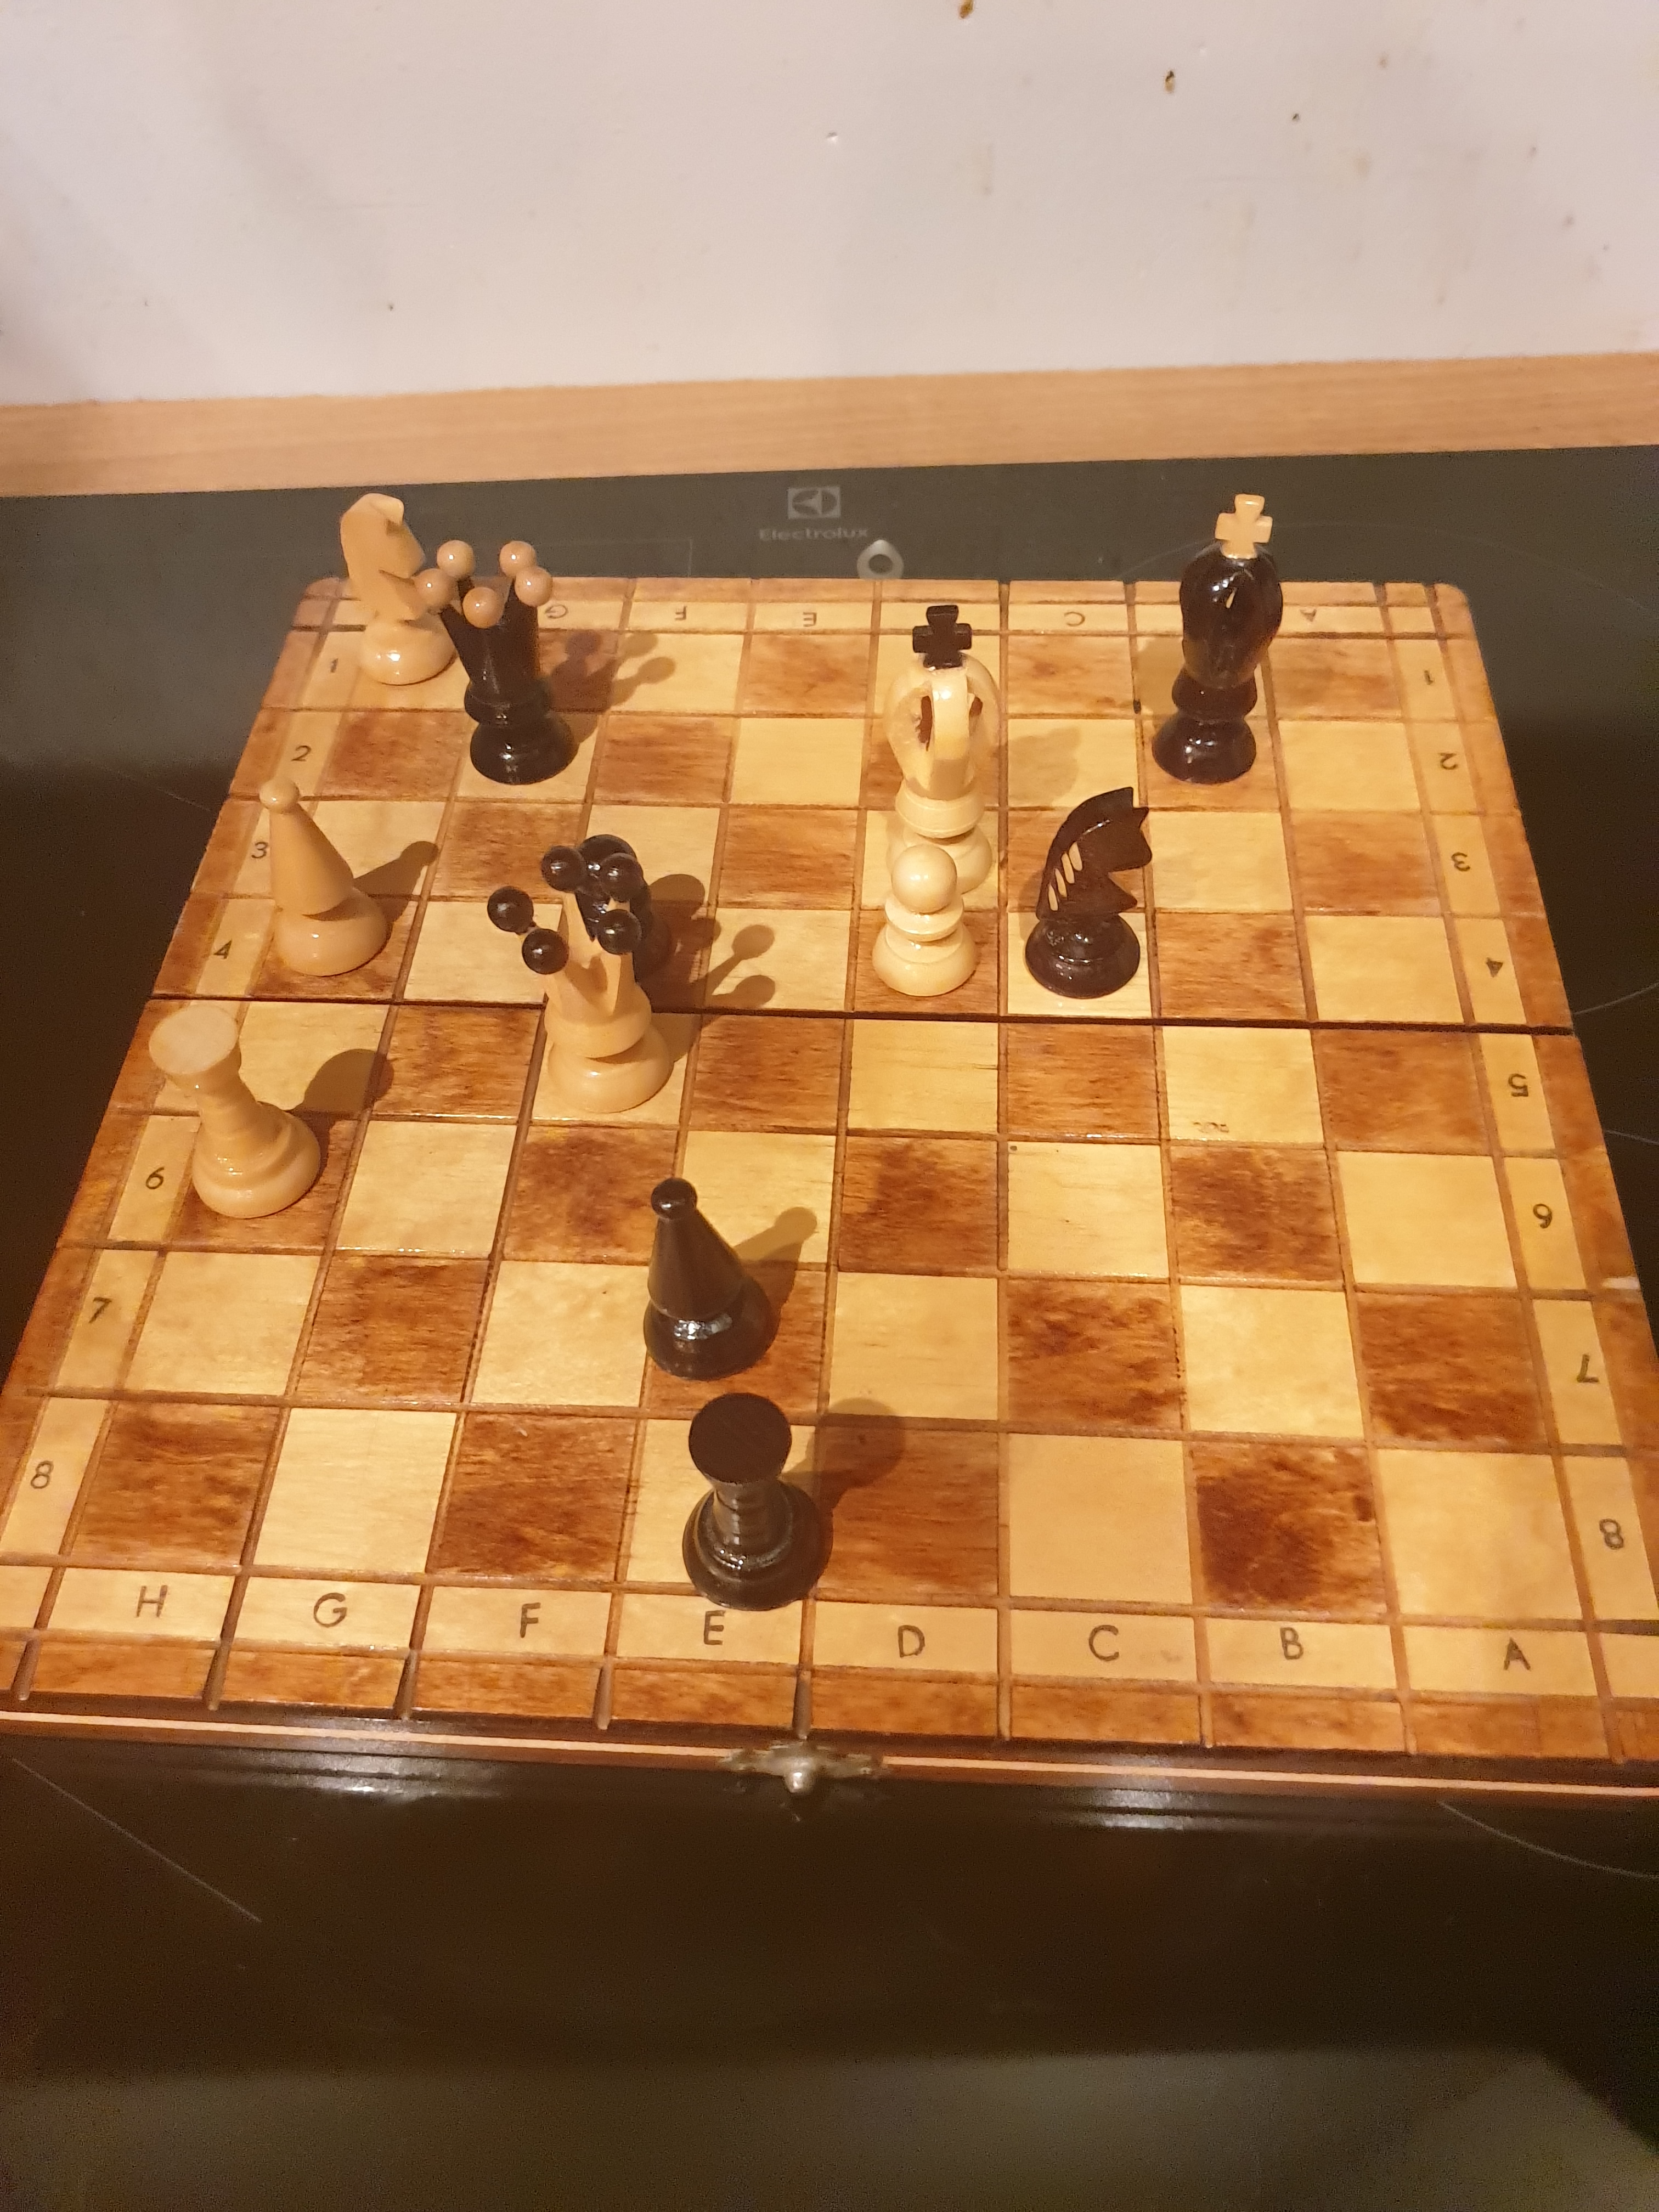bbishop: (633, 1163, 791, 1390)
bking: (1138, 472, 1307, 805)
bknight: (1019, 777, 1161, 1012)
bpawn: (559, 822, 669, 1008)
bqueen: (410, 524, 591, 820)
brook: (669, 1392, 838, 1616)
wbishop: (240, 761, 403, 993)
wking: (875, 590, 1011, 909)
wknight: (329, 481, 472, 698)
wpawn: (861, 831, 993, 1021)
wqueen: (483, 829, 714, 1134)
wrook: (139, 1001, 336, 1233)
